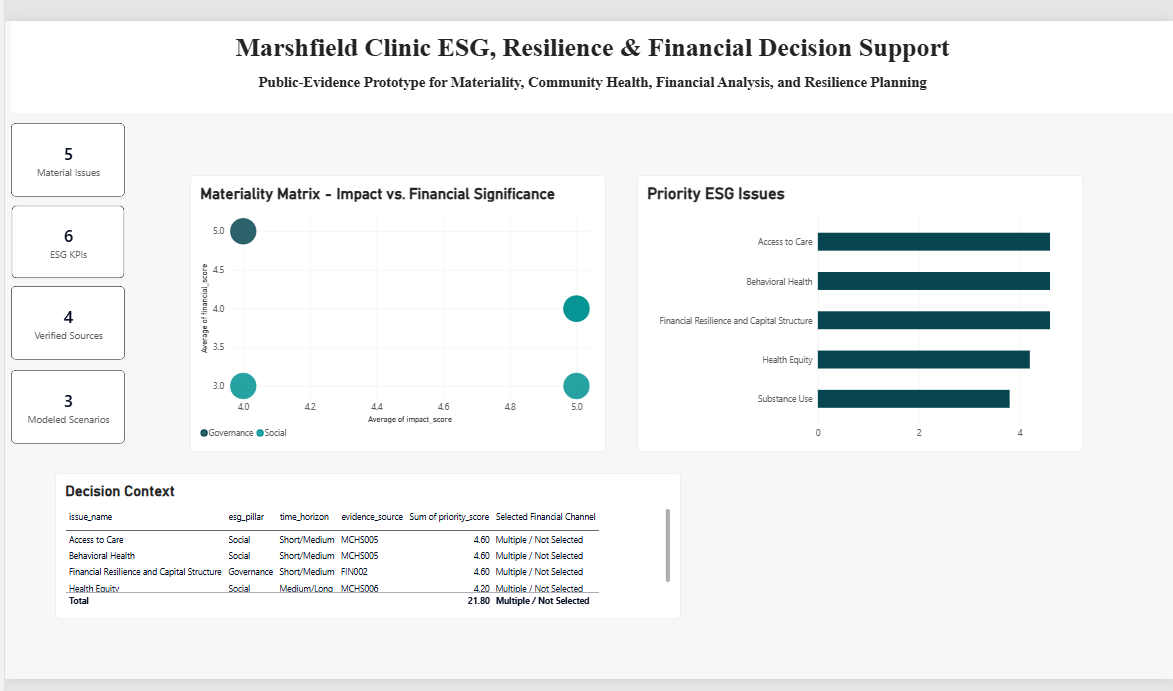

This screenshot's page, from the dashboard's own definition file:
{"tool":"powerbi","page":{"name":"Executive ESG & Decision Support","canvas":[1920,1080],"ordinal":0},"visuals":[{"type":"textbox","box":[9.6,0,1910.4,151.1],"z":0},{"type":"cardVisual","fields":{"Data":["Data_Quality.Material Issues"]},"box":[9.9,167.5,187.2,121.5],"z":1000},{"type":"cardVisual","fields":{"Data":["Data_Quality.ESG KPIs"]},"box":[9.9,302.2,187.2,121.5],"z":2000},{"type":"cardVisual","fields":{"Data":["Data_Quality.Verified Sources"]},"box":[9.9,435.2,187.2,121.5],"z":3000},{"type":"cardVisual","fields":{"Data":["Data_Quality.Modeled Scenarios"]},"box":[9.9,573.2,187.2,121.5],"z":4000},{"type":"scatterChart","title":"Materiality Matrix - Impact vs. Financial Significance","fields":{"Category":["executive_esg_summary.issue_name"],"Series":["executive_esg_summary.esg_pillar"],"Size":["Avg(executive_esg_summary.evidence_strength)"],"X":["Avg(executive_esg_summary.impact_score)"],"Y":["Avg(executive_esg_summary.financial_score)"]},"box":[303.8,252.9,683.3,455],"z":5000},{"type":"clusteredBarChart","title":"Priority ESG Issues","fields":{"Category":["executive_esg_summary.issue_name"],"Y":["Avg(executive_esg_summary.priority_score)"]},"box":[1038,252.9,732.5,455],"z":6000},{"type":"tableEx","title":"Decision Context","fields":{"Values":["executive_esg_summary.issue_name","executive_esg_summary.esg_pillar","executive_esg_summary.time_horizon","executive_esg_summary.evidence_source","executive_esg_summary.priority_score"]},"box":[247.4,759.6,751.9,239.8],"z":7000},{"type":"textbox","box":[1021.6,840.9,863.9,159.3],"z":7001},{"type":"cardVisual","fields":{"Data":["Data_Quality.Selected Financial Channel"]},"box":[9.6,719.3,187.2,121.5],"z":7002}]}

Visuals, with their boxes on the page's 1920x1080 design canvas (x1, y1, x2, y2). These are canvas units, not pixel positions in the 1173x691 screenshot, which may show the page scaled, cropped or inside an application window:
textbox: l=10, t=0, r=1920, b=151
cardVisual - Data_Quality.Material Issues: l=10, t=168, r=197, b=289
cardVisual - Data_Quality.ESG KPIs: l=10, t=302, r=197, b=424
cardVisual - Data_Quality.Verified Sources: l=10, t=435, r=197, b=557
cardVisual - Data_Quality.Modeled Scenarios: l=10, t=573, r=197, b=695
"Materiality Matrix - Impact vs. Financial Significance" scatterChart: l=304, t=253, r=987, b=708
"Priority ESG Issues" clusteredBarChart: l=1038, t=253, r=1770, b=708
"Decision Context" tableEx: l=247, t=760, r=999, b=999
textbox: l=1022, t=841, r=1886, b=1000
cardVisual - Data_Quality.Selected Financial Channel: l=10, t=719, r=197, b=841
